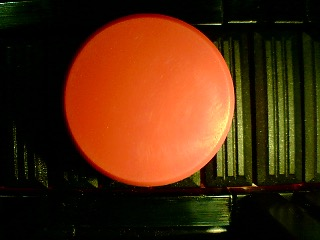BLANK: (63, 13, 235, 187)
